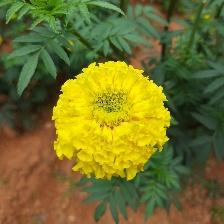marigold: (51, 61, 174, 184)
